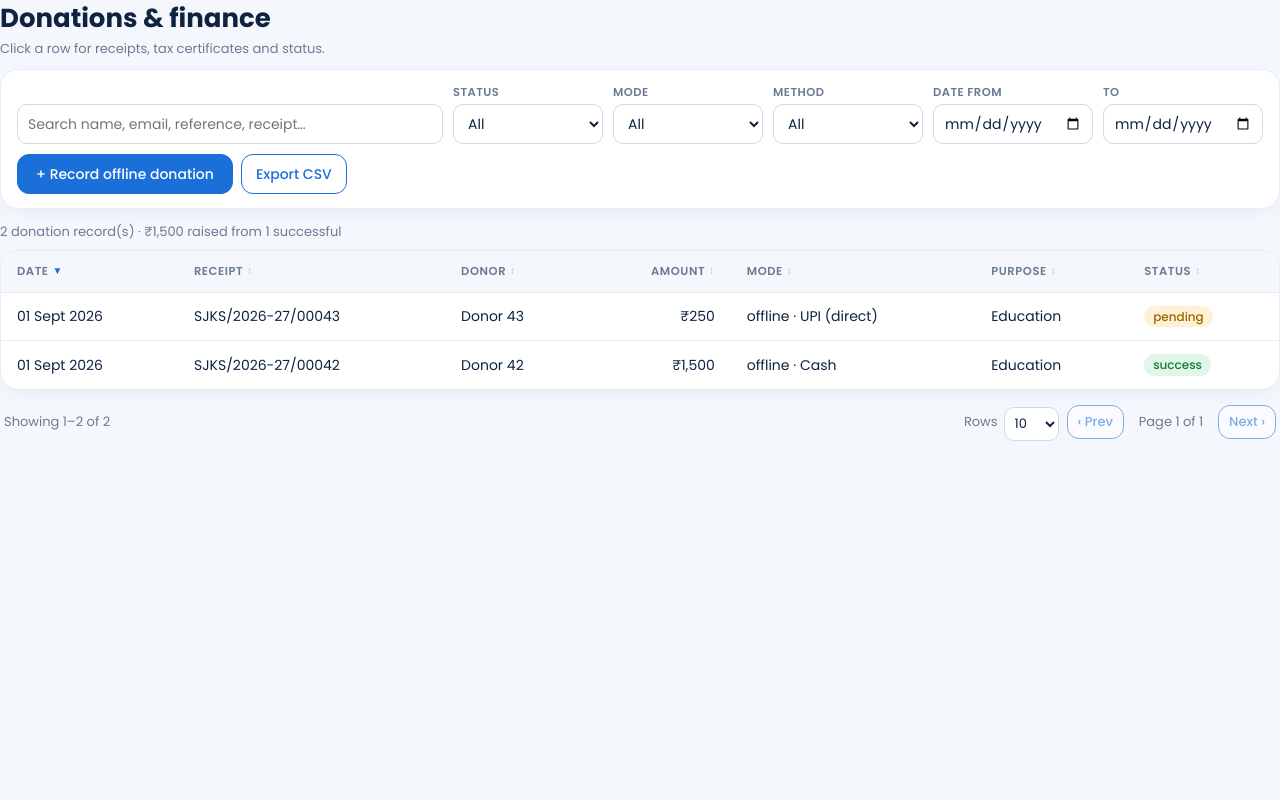
Test case: Donations screen › opens a donation and explains that receipts need the backend when it is not connected
Step 1. Click the text "Donor 42" → (492, 365), box 461,355 -> 524,375
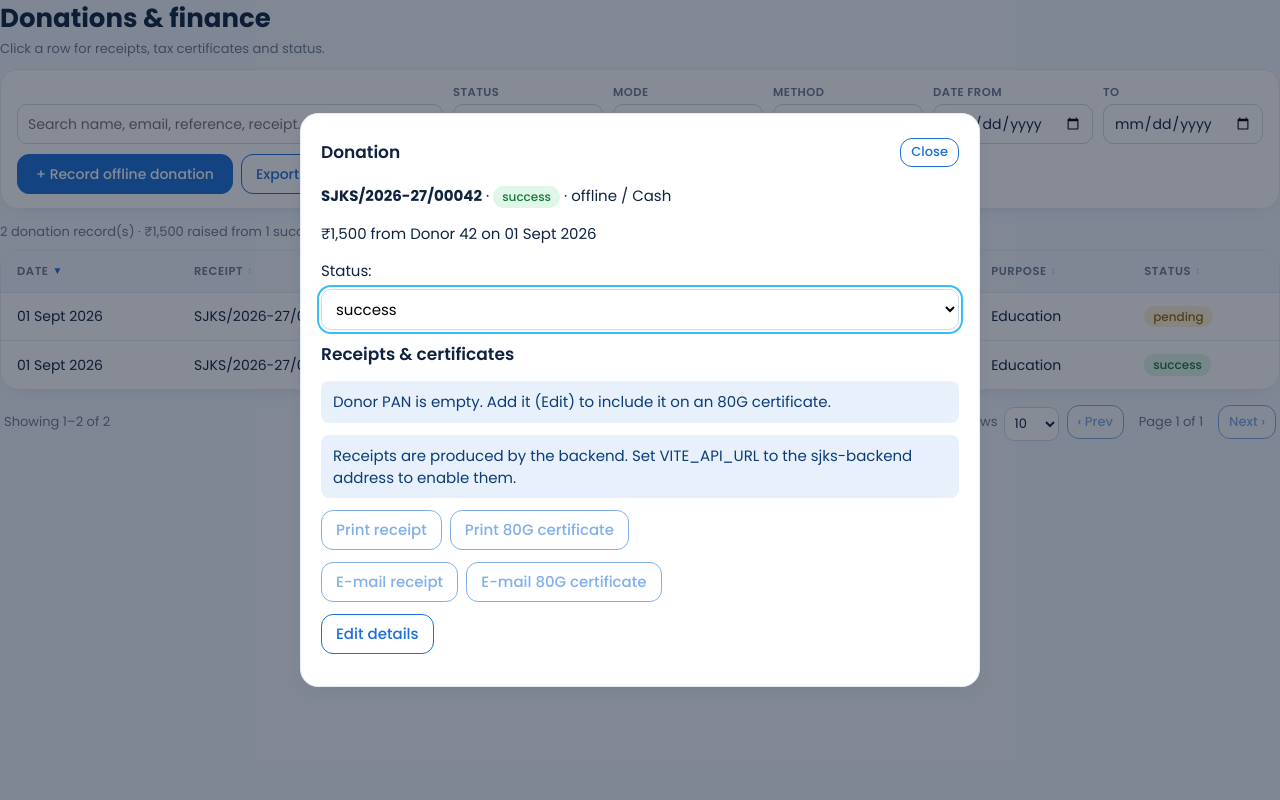
expect the heading "Receipts & certificates" is shown: met, box 321,342 -> 514,366
expect the text "Set VITE_API_URL" is shown: met, box 333,445 -> 912,488
expect the button "Print receipt" is disabled: met, box 321,510 -> 442,550
// Escape closes it
Step 2. Press Escape
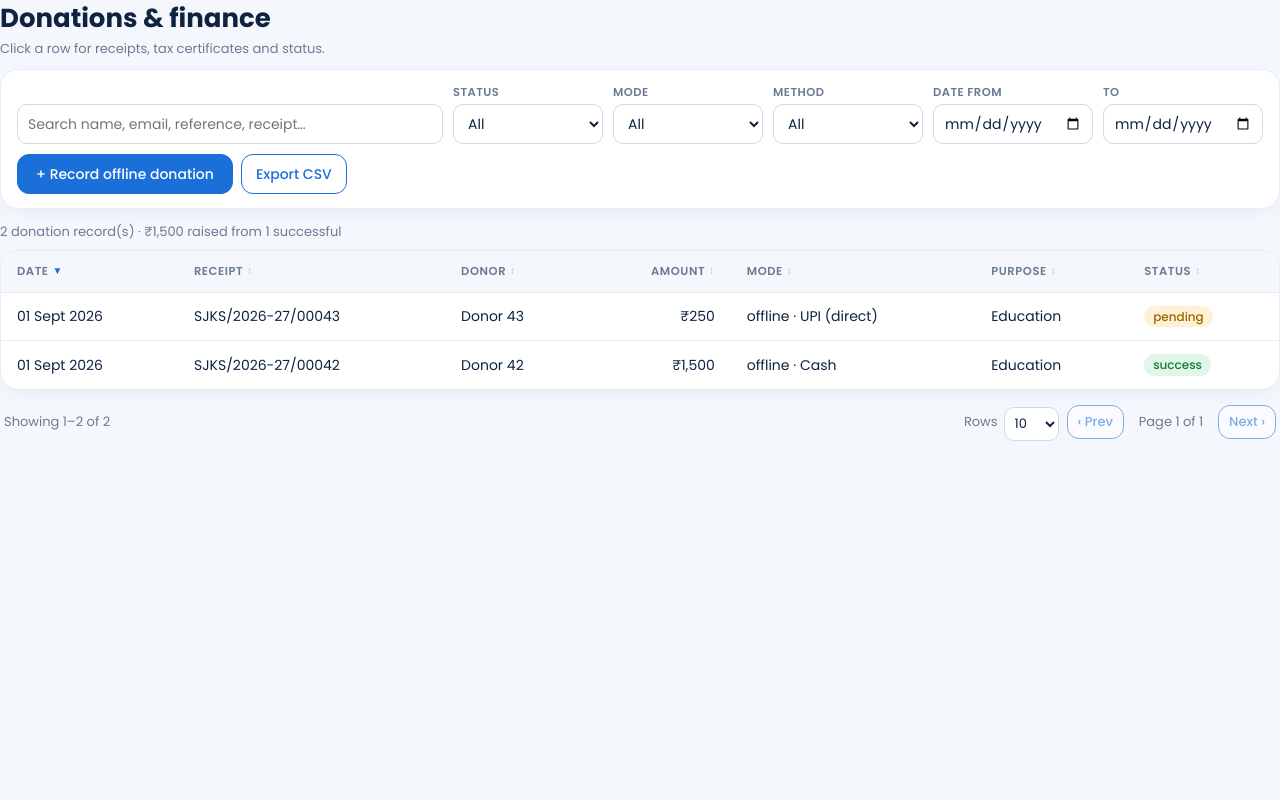
expect the dialog is gone: met
